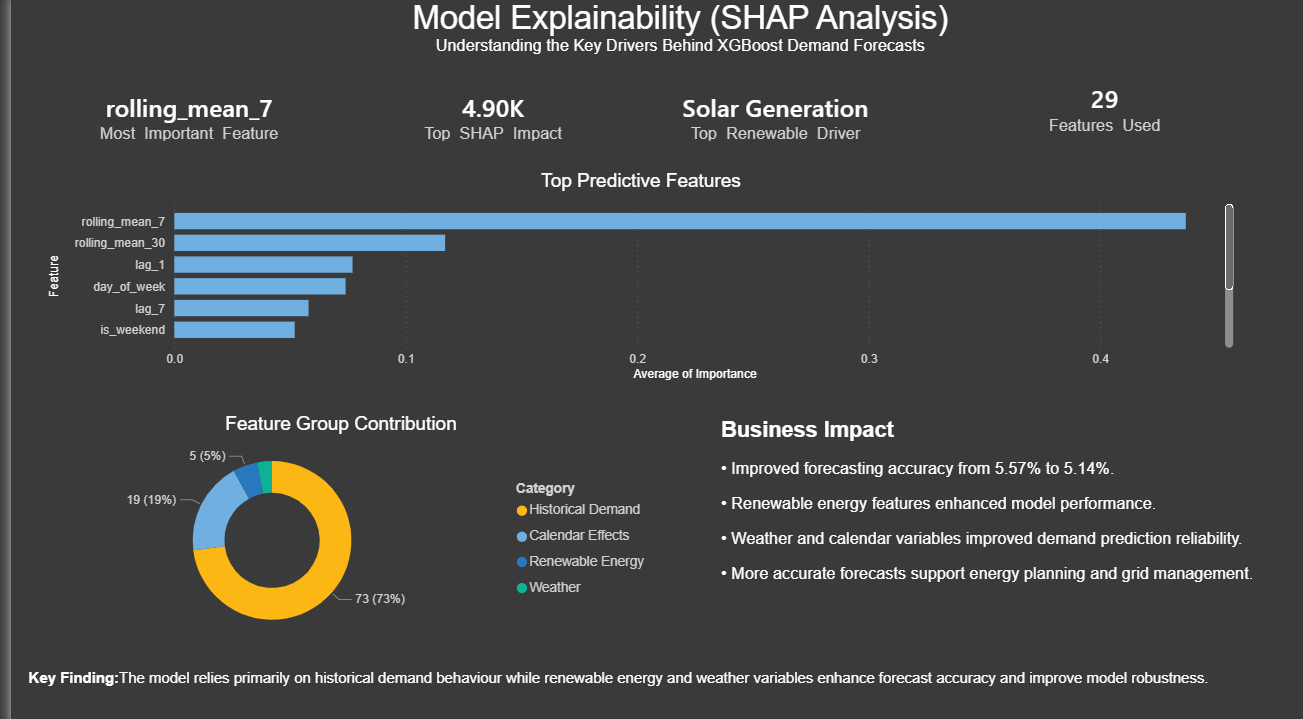

Layout of this report page (visuals, bound fields, positions):
{"tool":"powerbi","page":{"name":"Model Explainability (SHAP Analysis)","canvas":[1280,720],"ordinal":4},"visuals":[{"type":"textbox","box":[298.2,0,717.8,67.5],"z":0},{"type":"cardVisual","fields":{"Data":["KPI_Table.Most_Important_Feature"]},"box":[31.9,76.1,284.7,85.9],"z":1000},{"type":"cardVisual","fields":{"Data":["KPI_Table.Top_SHAP_Impact"]},"box":[333.7,76.1,277.3,85.9],"z":2000},{"type":"cardVisual","fields":{"Data":["KPI_Table.Top_Renewable_Driver"]},"box":[611,76.1,277.3,85.9],"z":3000},{"type":"cardVisual","fields":{"Data":["KPI_Table.Features_Used"]},"box":[941.1,67.5,263.8,85.9],"z":4000},{"type":"clusteredBarChart","title":"Top Predictive Features","fields":{"Category":["Feature_Importance.Feature"],"Y":["Avg(Feature_Importance.Importance)"]},"box":[31.9,171.8,1173,212.3],"z":5000},{"type":"donutChart","title":"Feature Group Contribution","fields":{"Category":["Feature_Groups.Category"],"Y":["Sum(Feature_Groups.Contribution)"]},"box":[12.3,409.8,623.3,230.7],"z":6000},{"type":"textbox","box":[12.3,640.5,1267.5,68.7],"z":7000},{"type":"textbox","box":[692,409.8,587.7,218.4],"z":8000}]}

Visuals, with their boxes in screenshot pixels (x1, y1, x2, y2), scaled from the page's 1280x720 canvas onto the 1303x719 screenshot:
textbox: (304,0,1034,67)
cardVisual - KPI_Table.Most_Important_Feature: (32,76,322,162)
cardVisual - KPI_Table.Top_SHAP_Impact: (340,76,622,162)
cardVisual - KPI_Table.Top_Renewable_Driver: (622,76,904,162)
cardVisual - KPI_Table.Features_Used: (958,67,1227,153)
"Top Predictive Features" clusteredBarChart: (32,172,1227,384)
"Feature Group Contribution" donutChart: (13,409,647,640)
textbox: (13,640,1302,708)
textbox: (704,409,1302,627)
